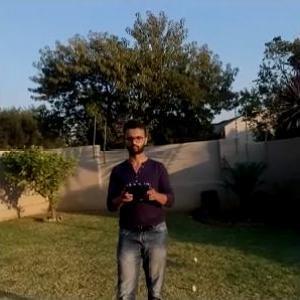follow: (99, 107, 176, 299)
